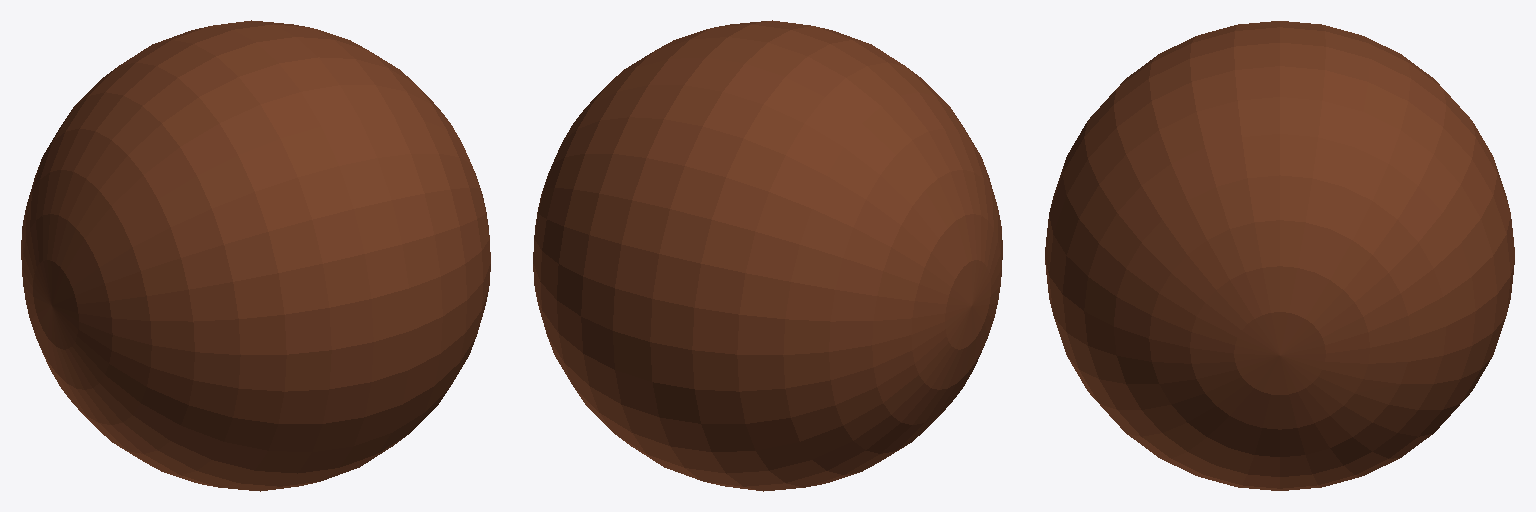
URDF robot description (panda):
<?xml version='1.0' encoding='utf-8'?>
<robot name="panda">

    <link name="link0">
      <inertial>
        <origin xyz="0 0 0.05" rpy="0 0 0" />
        <mass value="4" />
        <inertia ixx="0.4" iyy="0.4" izz="0.4" ixy="0" ixz="0" iyz="0" />
      </inertial>
      <visual>
        <geometry>
          <mesh filename="../../../Model/meshes/visual/link0.obj"/>
        </geometry>
      </visual>
<!--       <collision>
        <geometry>
          <mesh filename="../../../Model/meshes/collision/link0.obj"/>
        </geometry>
      </collision> -->
    </link>
    <link name="link1">
      <inertial>
        <origin xyz="0 0 -0.07" rpy="0 -0 0" />
        <mass value="3" />
        <inertia ixx="0.3" iyy="0.3" izz="0.3" ixy="0" ixz="0" iyz="0" />
      </inertial>
      <visual>
        <geometry>
          <mesh filename="../../../Model/meshes/visual/link1.obj"/>
        </geometry>
      </visual>
      <!-- <collision>
        <geometry>
          <mesh filename="../../../Model/meshes/collision/link1.obj"/>
        </geometry>
      </collision> -->
    </link>
    <link name="link2">
      <inertial>
        <origin xyz="0 -0.1 0" rpy="0 -0 0" />
        <mass value="3" />
        <inertia ixx="0.3" iyy="0.3" izz="0.3" ixy="0" ixz="0" iyz="0" />
      </inertial>
      <visual>
        <geometry>
          <mesh filename="../../../Model/meshes/visual/link2.obj"/>
        </geometry>
      </visual>
      <!-- <collision>
        <geometry>
          <mesh filename="../../../Model/meshes/collision/link2.obj"/>
        </geometry>
      </collision> -->
    </link>
    <link name="link3">
      <inertial>
        <origin xyz="0.04 0 -0.05" rpy="0 -0 0" />
        <mass value="2" />
        <inertia ixx="0.2" iyy="0.2" izz="0.2" ixy="0" ixz="0" iyz="0" />
      </inertial>
      <visual>
        <geometry>
          <mesh filename="../../../Model/meshes/visual/link3.obj"/>
        </geometry>
      </visual>
      <!-- <collision>
        <geometry>
          <mesh filename="../../../Model/meshes/collision/link3.obj"/>
        </geometry>
      </collision> -->
    </link>
    <link name="link4">
      <inertial>
        <origin xyz="-0.04 0.05 0" rpy="0 -0 0" />
        <mass value="2" />
        <inertia ixx="0.2" iyy="0.2" izz="0.2" ixy="0" ixz="0" iyz="0" />
      </inertial>
      <visual>
        <geometry>
          <mesh filename="../../../Model/meshes/visual/link4.obj"/>
        </geometry>
      </visual>
<!--       <collision>
        <geometry>
          <mesh filename="../../../Model/meshes/collision/link4.obj"/>
        </geometry>
      </collision> -->
    </link>
    <link name="link5">
      <inertial>
        <origin xyz="0 0 -0.15" rpy="0 -0 0" />
        <mass value="2" />
        <inertia ixx="0.2" iyy="0.2" izz="0.2" ixy="0" ixz="0" iyz="0" />
      </inertial>
      <visual>
        <geometry>
          <mesh filename="../../../Model/meshes/visual/link5.obj"/>
        </geometry>
      </visual>
<!--       <collision>
        <geometry>
          <mesh filename="../../../Model/meshes/collision/link5.obj"/>
        </geometry>
      </collision> -->
    </link>
    <link name="link6">
      <inertial>
        <origin xyz="0.06 0 0" rpy="0 -0 0" />
        <mass value="1.5" />
        <inertia ixx="0.1" iyy="0.1" izz="0.1" ixy="0" ixz="0" iyz="0" />
      </inertial>
      <visual>
        <geometry>
          <mesh filename="../../../Model/meshes/visual/link6.obj"/>
        </geometry>
      </visual>
      <!-- <collision>
        <geometry>
          <mesh filename="../../../Model/meshes/collision/link6.obj"/>
        </geometry>
      </collision> -->
    </link>
    <link name="link7">
      <inertial>
        <origin xyz="0 0 0.17" rpy="0 -0 0" />
        <mass value="1.8" />
        <inertia ixx="0.09" iyy="0.05" izz="0.07" ixy="0" ixz="0" iyz="0" />
      </inertial>
      <visual>
        <geometry>
          <mesh filename="../../../Model/meshes/visual/link7.obj"/>
        </geometry>
      </visual>
      <!-- <collision>
        <geometry>
          <mesh filename="../../../Model/meshes/collision/link7.obj"/>
        </geometry>
      </collision> -->
    </link>
    <link name="end_effector">
      <inertial>
        <origin xyz="0 0 0" rpy="0 0 0" />
        <mass value="0.5" />
        <inertia ixx="0.05" iyy="0.05" izz="0.05" ixy="0" ixz="0" iyz="0" />
      </inertial>
      <visual>
        <geometry>
          <sphere radius="0.035"/>
        </geometry>
        <material name="material_ee">
            <color rgba="0.5 0.3 0.2 1.0" />
        </material>
      </visual>
      <collision>
        <geometry>
          <sphere radius="0.035"/>
        </geometry>
      </collision>      
    </link>
    <joint name="joint_fixed" type="fixed">
      <origin rpy="0 0 0" xyz="0 0 0.13"/>
      <parent link="link7"/>
      <child link="end_effector"/>
    </joint>



    <joint name="joint1" type="revolute">
      <safety_controller k_position="100.0" k_velocity="40.0" soft_lower_limit="-2.8973" soft_upper_limit="2.8973"/>
      <origin rpy="0 0 0" xyz="0 0 0.333"/>
      <parent link="link0"/>
      <child link="link1"/>
      <axis xyz="0 0 1"/>
      <limit effort="87" lower="-2.8973" upper="2.8973" velocity="2.1750"/>
    </joint>
    <joint name="joint2" type="revolute">
      <safety_controller k_position="100.0" k_velocity="40.0" soft_lower_limit="-1.7628" soft_upper_limit="1.7628"/>
      <origin rpy="-1.57079632679 0 0" xyz="0 0 0"/>
      <parent link="link1"/>
      <child link="link2"/>
      <axis xyz="0 0 1"/>
      <calibration falling="-45.0" />
      <limit effort="87" lower="-1.7628" upper="1.7628" velocity="2.1750"/>
    </joint>
    <joint name="joint3" type="revolute">
      <safety_controller k_position="100.0" k_velocity="40.0" soft_lower_limit="-2.8973" soft_upper_limit="2.8973"/>
      <origin rpy="1.57079632679 0 0" xyz="0 -0.316 0"/>
      <parent link="link2"/>
      <child link="link3"/>
      <axis xyz="0 0 1"/>
      <limit effort="87" lower="-2.8973" upper="2.8973" velocity="2.1750"/>
    </joint>
    <joint name="joint4" type="revolute">
      <safety_controller k_position="100.0" k_velocity="40.0" soft_lower_limit="-3.0718" soft_upper_limit="-0.0698"/>
      <origin rpy="1.57079632679 0 0" xyz="0.0825 0 0"/>
      <parent link="link3"/>
      <child link="link4"/>
      <axis xyz="0 0 1"/>
      <calibration falling="-125.0" />
      <limit effort="87" lower="-3.0718" upper="-0.0698" velocity="2.1750"/>
    </joint>
    <joint name="joint5" type="revolute">
      <safety_controller k_position="100.0" k_velocity="40.0" soft_lower_limit="-2.8973" soft_upper_limit="2.8973"/>
      <origin rpy="-1.57079632679 0 0" xyz="-0.0825 0.384 0"/>
      <parent link="link4"/>
      <child link="link5"/>
      <axis xyz="0 0 1"/>
      <limit effort="12" lower="-2.8973" upper="2.8973" velocity="2.6100"/>
    </joint>
    <joint name="joint6" type="revolute">
      <safety_controller k_position="100.0" k_velocity="40.0" soft_lower_limit="-0.0175" soft_upper_limit="3.7525"/>
      <origin rpy="1.57079632679 0 0" xyz="0 0 0"/>
      <parent link="link5"/>
      <child link="link6"/>
      <axis xyz="0 0 1"/>
      <calibration falling="80.0" />
      <limit effort="12" lower="-0.0175" upper="3.7525" velocity="2.6100"/>
    </joint>
    <joint name="joint7" type="revolute">
      <safety_controller k_position="100.0" k_velocity="40.0" soft_lower_limit="-2.8973" soft_upper_limit="2.8973"/>
      <origin rpy="1.57079632679 0 0" xyz="0.088 0 0"/>
      <parent link="link6"/>
      <child link="link7"/>
      <axis xyz="0 0 1"/>
      <limit effort="12" lower="-2.8973" upper="2.8973" velocity="2.6100"/>
    </joint>
</robot>

--- Facts derived from the render (not from the file) ---
Views: 3 orthographic renders of the robot side by side, from view 1: azimuth 30°, elevation 25°; view 2: azimuth 150°, elevation 25°; view 3: azimuth 270°, elevation 25°.
Robot: panda — 9 links, 8 joints (7 revolute, 1 fixed); root link link0; default pose: all joints at 0 but 1 set to mid-range because 0 is outside their limits (joint4 = -1.57).
Links seen in each view (by area): view 1: end_effector; view 2: end_effector; view 3: end_effector.
Boxes of the visible links, x1,y1,x2,y2 form: end_effector: (21, 20, 490, 491); end_effector: (533, 20, 1002, 491); end_effector: (1045, 21, 1514, 490).
Size in the robot's own frame: 0.07 by 0.07 by 0.07 metres.
Geometry: only primitive shapes (box / cylinder / sphere) drawn; not drawn: 8 mesh visuals (reference in a form the renderer does not follow).